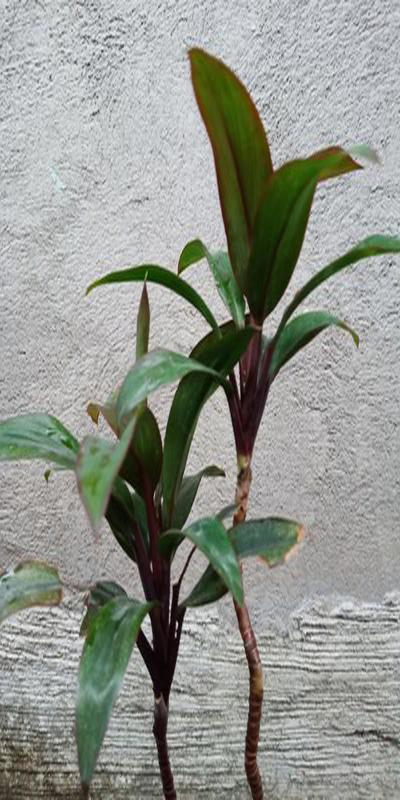Baston de san jose: (180, 68, 377, 788), (28, 323, 212, 800)
